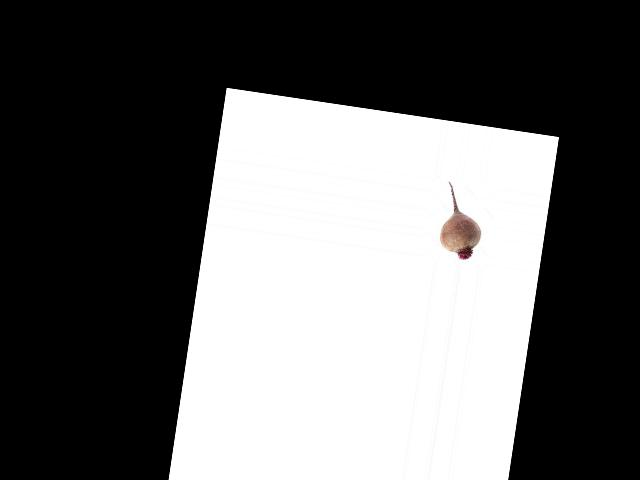beet: (437, 182, 489, 261)
